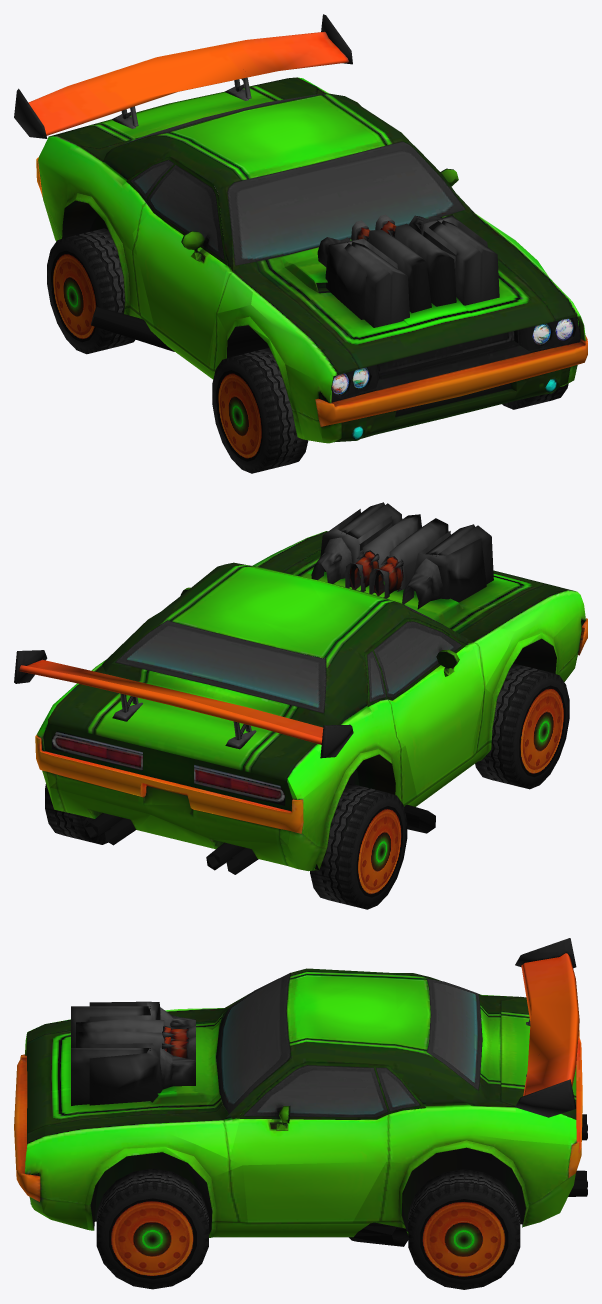
File: Car 14.glb
3 views of the same model, one above another, from view 1: azimuth 30°, elevation 25°; view 2: azimuth 150°, elevation 25°; view 3: azimuth 270°, elevation 25° (orthographic). The views are drawn at different scales.
Visible parts, largest first — view 1: car_chrome_009, Motor, carBody_low_032, tireFrontR_low_023, tireBackR_low_024; view 2: car_chrome_009, Motor, tireBackR_low_024, tireFrontR_low_023, carBody_low_032, tireBackL_low_025; view 3: car_chrome_009, Motor, tireBackL_low_025, tireFrontL_low_025, carBody_low_032.
Part boxes in pixels (x1,y1,x2,y2): car_chrome_009: (36,77,587,443); Motor: (317,214,499,327); carBody_low_032: (14,14,352,138); tireFrontR_low_023: (212,348,308,473); tireBackR_low_024: (47,228,135,354); car_chrome_009: (35,531,587,874); Motor: (311,502,493,609); tireBackR_low_024: (310,783,407,909); tireFrontR_low_023: (475,663,569,789); carBody_low_032: (14,650,353,758); tireBackL_low_025: (45,784,107,844); car_chrome_009: (14,968,587,1246); Motor: (71,1001,195,1105); tireBackL_low_025: (408,1169,520,1289); tireFrontL_low_025: (96,1168,208,1289); carBody_low_032: (515,938,579,1117).
Size of the model in its own units: 0.7552 by 0.4718 by 1.15.
Materials: 4 (3 with a texture image).
